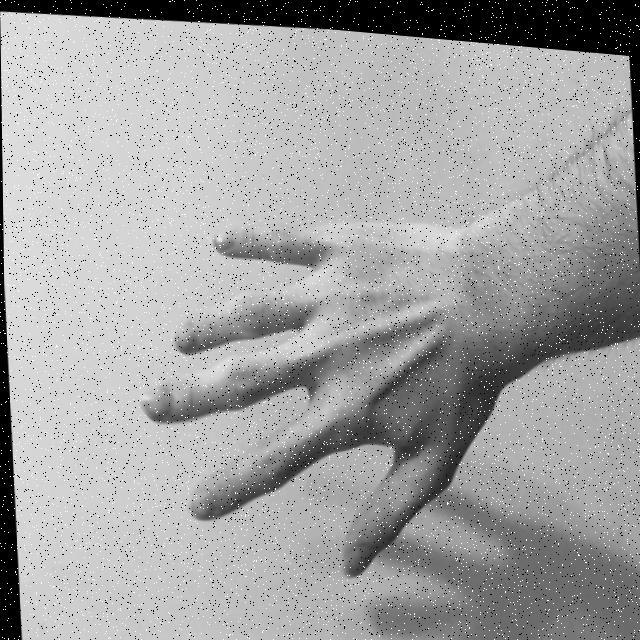no-gloves: (128, 201, 496, 592)
